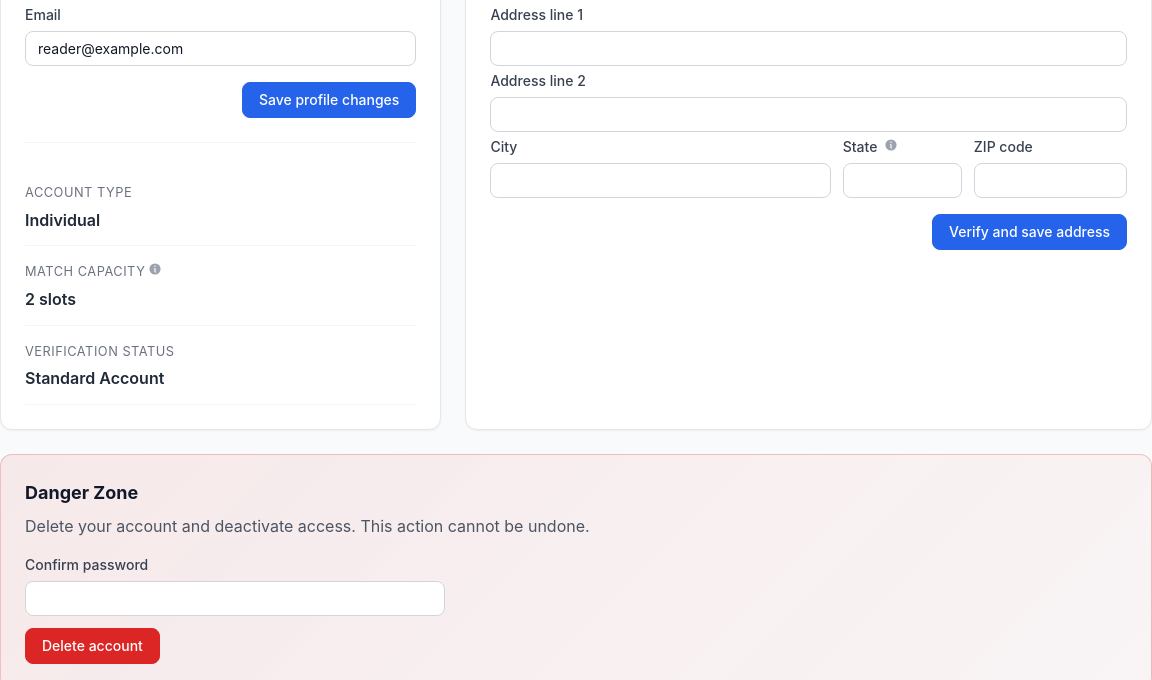
Test: AccountSettings page › shows delete error when account deletion fails
(page scrolled)
Type "wrongpassword" into the password field labelled "Confirm password". click: [235, 598]
box: [25, 581, 445, 616]
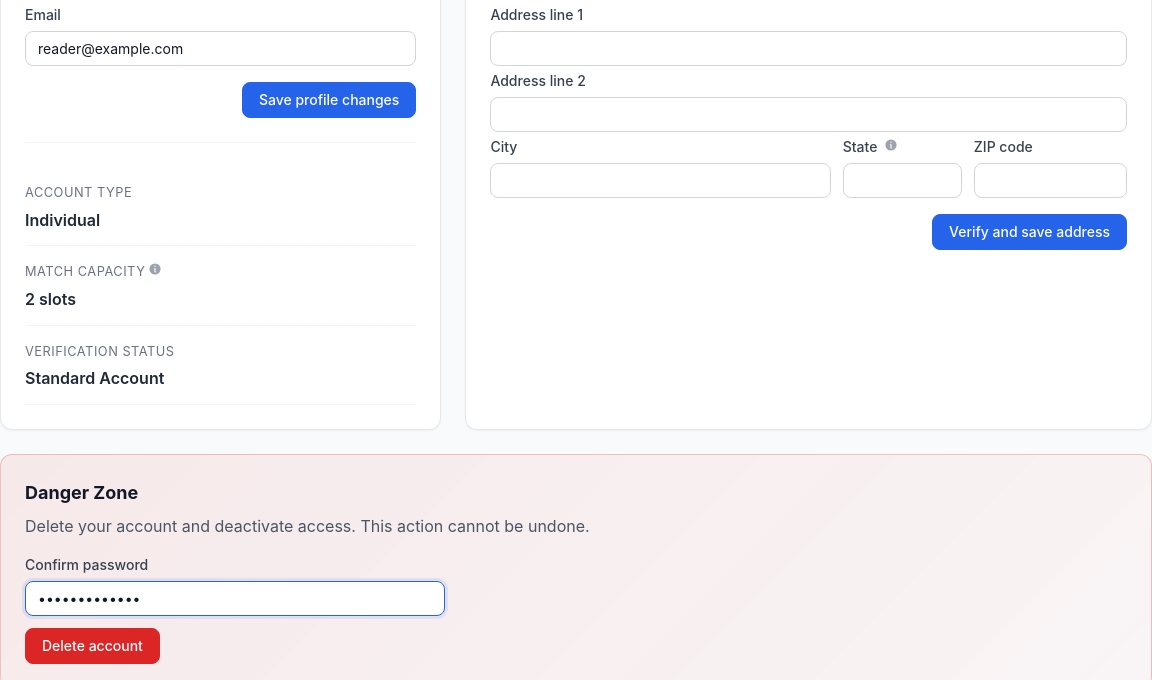
Click the button "Delete account". click: [92, 646]
box: [25, 628, 160, 664]
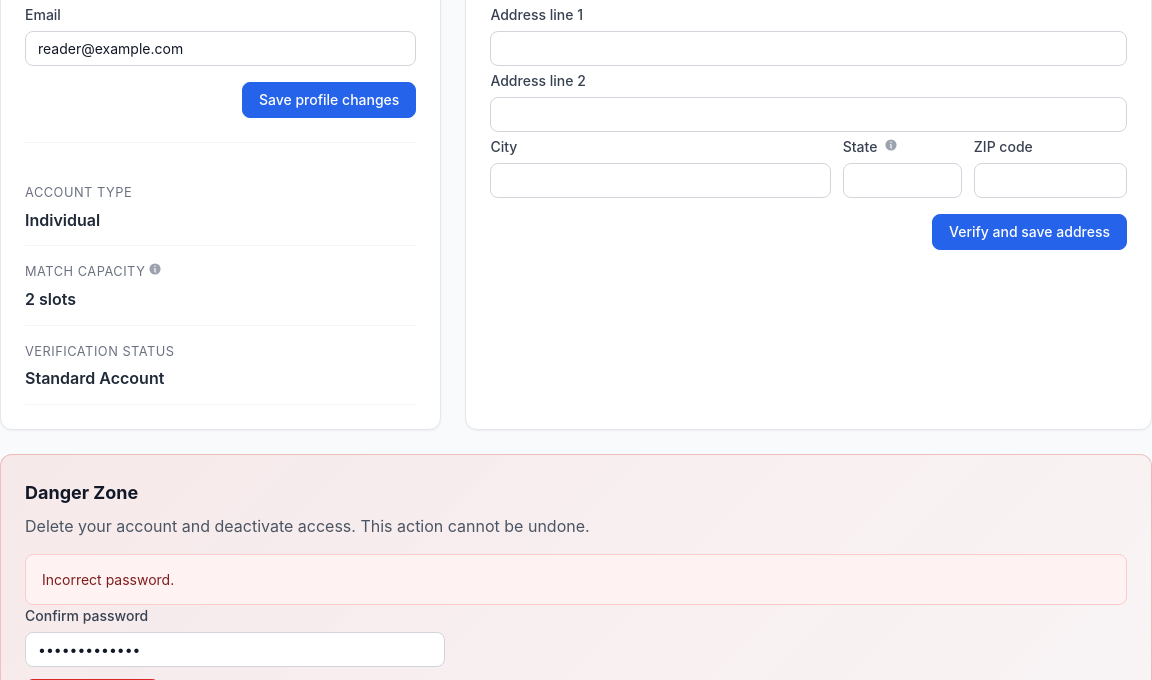
Result: the text "Incorrect password." is shown at [25, 554, 1127, 605]
